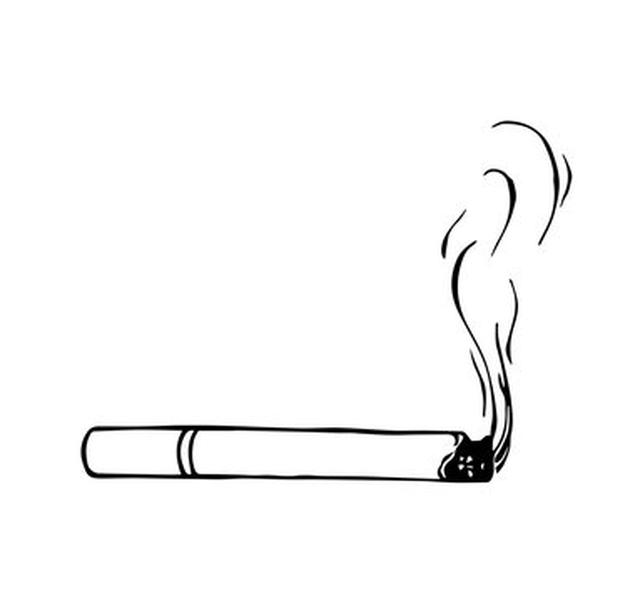Cigarette: (80, 117, 573, 483)
